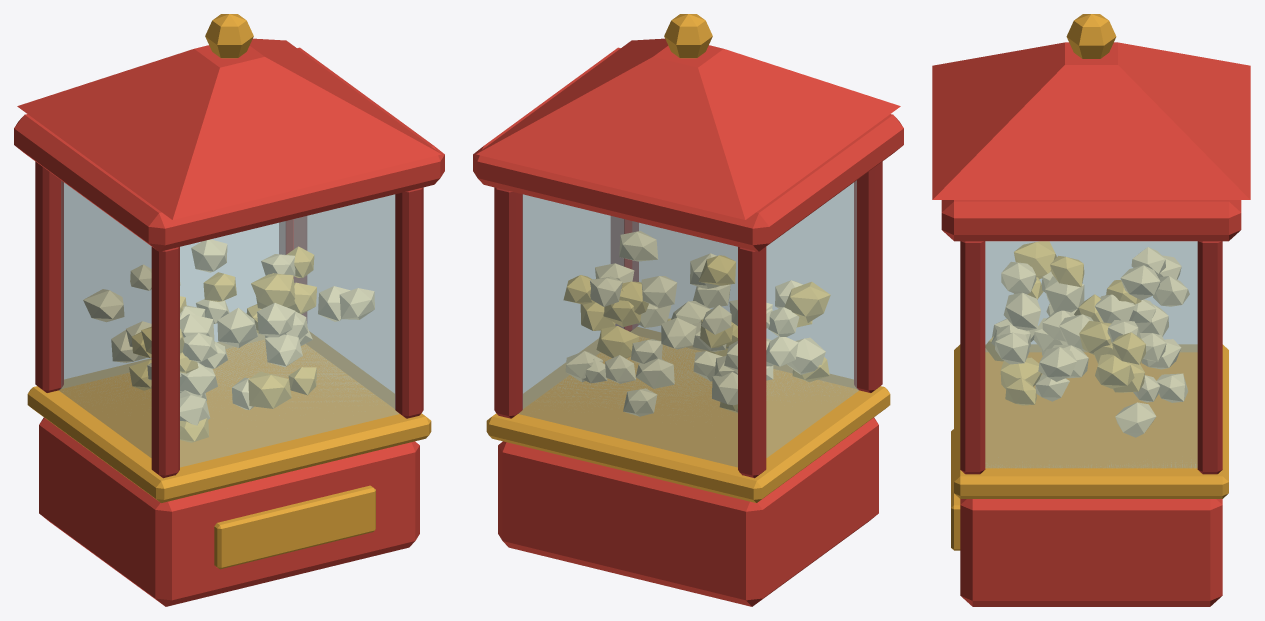
File: popcorn_machine.glb
3 views of the same model, side by side, from view 1: azimuth 30°, elevation 25°; view 2: azimuth 150°, elevation 25°; view 3: azimuth 270°, elevation 25° (orthographic). The views are drawn at different scales.
Visible parts, largest first — view 1: popcorn_machine; view 2: popcorn_machine; view 3: popcorn_machine.
Boxes of the visible parts, x1=… form: popcorn_machine: x1=14, y1=14, x2=444, y2=606; popcorn_machine: x1=473, y1=14, x2=903, y2=606; popcorn_machine: x1=932, y1=14, x2=1250, y2=606.
Size of the model in its own units: 0.56 by 0.94 by 0.5091.
